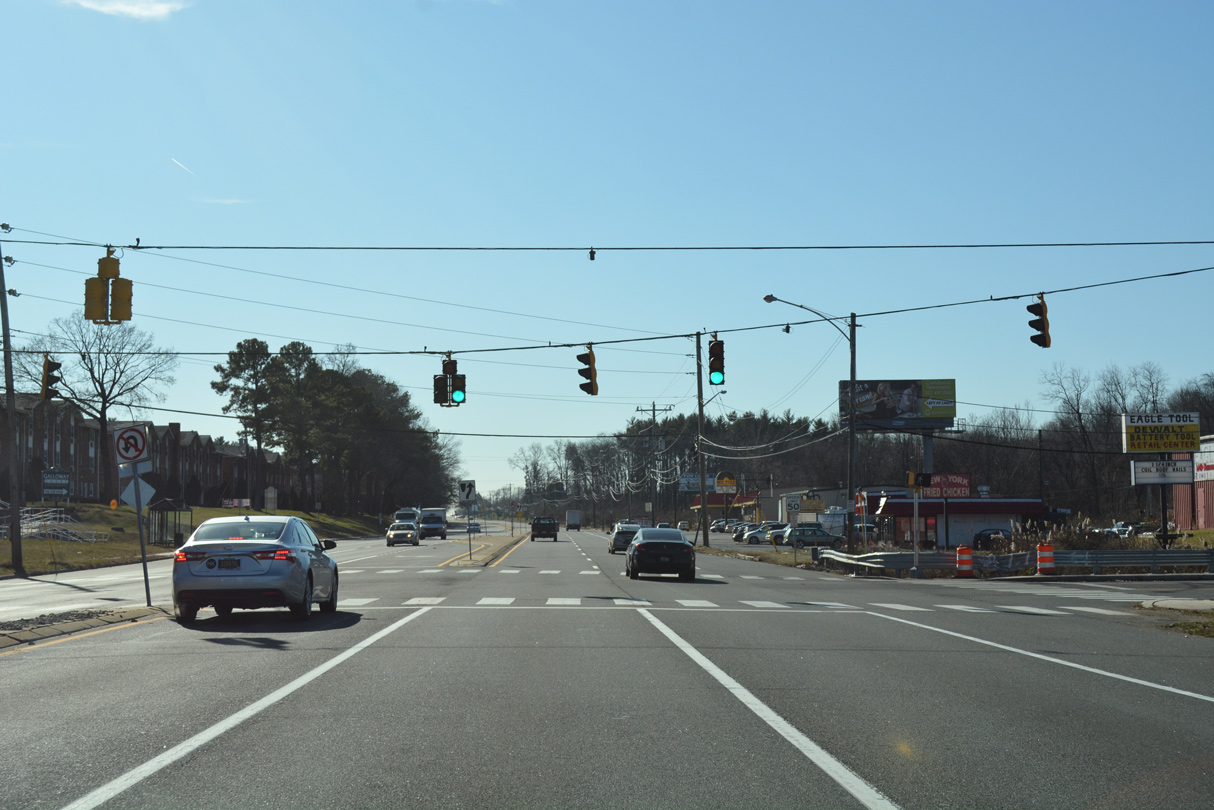traffic_light: (432, 358, 469, 409), (707, 339, 727, 387)
